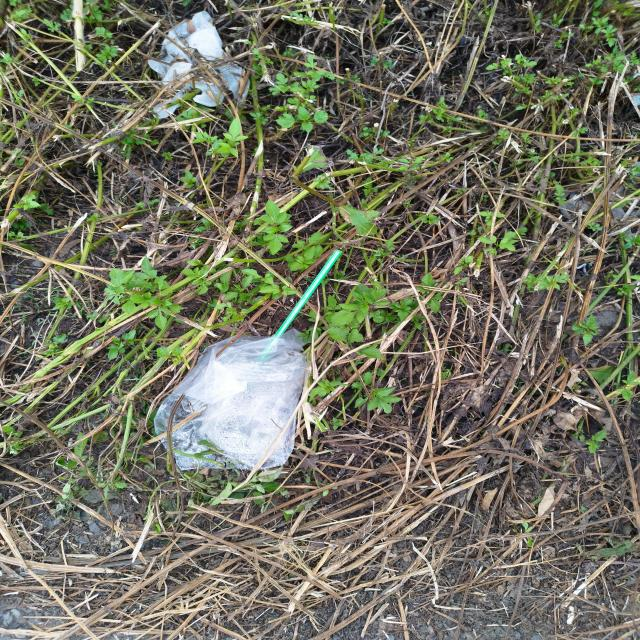bag: (156, 329, 308, 470)
drinking straw: (257, 250, 342, 360)
